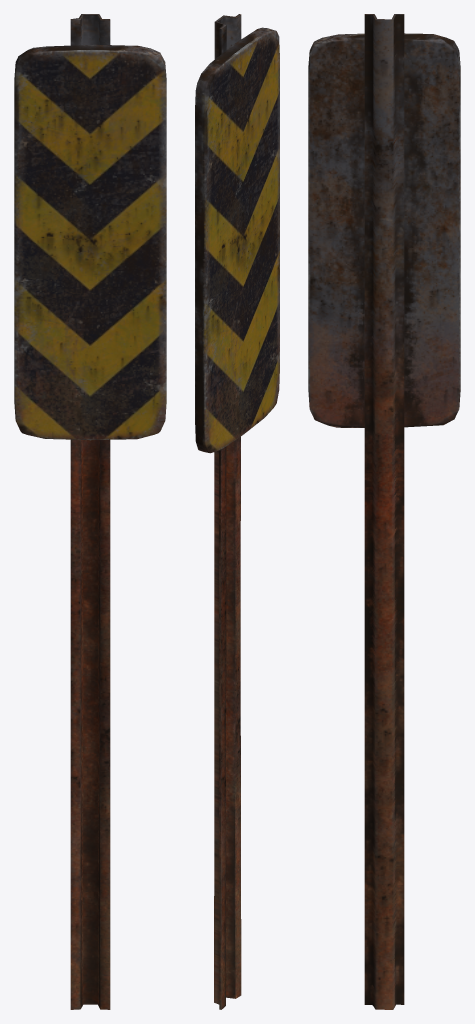
The model's file is SM_MetalSign.fbx.
3 renders of one model, left to right at view 1: azimuth 90°, elevation 25°; view 2: azimuth 150°, elevation 25°; view 3: azimuth 270°, elevation 25°, orthographic.
Parts seen in each view (by area): view 1: SM_MetalSign_LOD0; view 2: SM_MetalSign_LOD0; view 3: SM_MetalSign_LOD0.
Part boxes in pixels (x1,y1,x2,y2): SM_MetalSign_LOD0: (14, 14, 166, 1009); SM_MetalSign_LOD0: (195, 14, 279, 1009); SM_MetalSign_LOD0: (308, 14, 460, 1009).
Size of the model in its own units: 9.99 by 52.06 by 373.
1 material, 1 textured.
